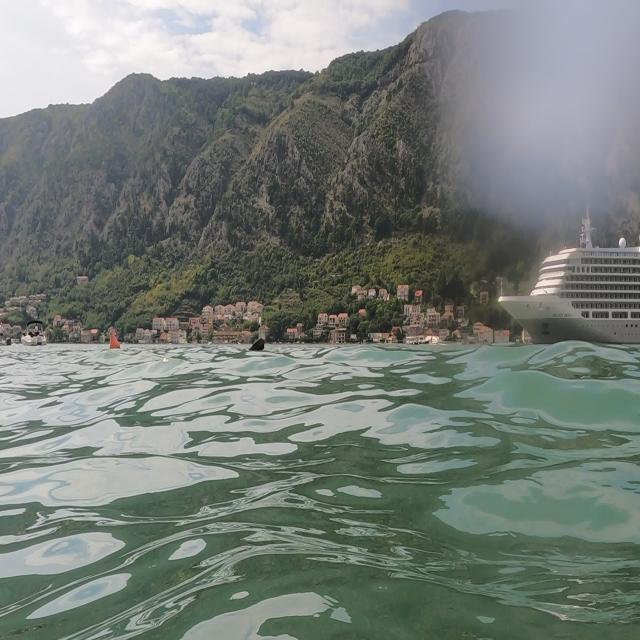boat: (496, 204, 639, 348)
buoy: (242, 331, 269, 359), (105, 326, 126, 356)
